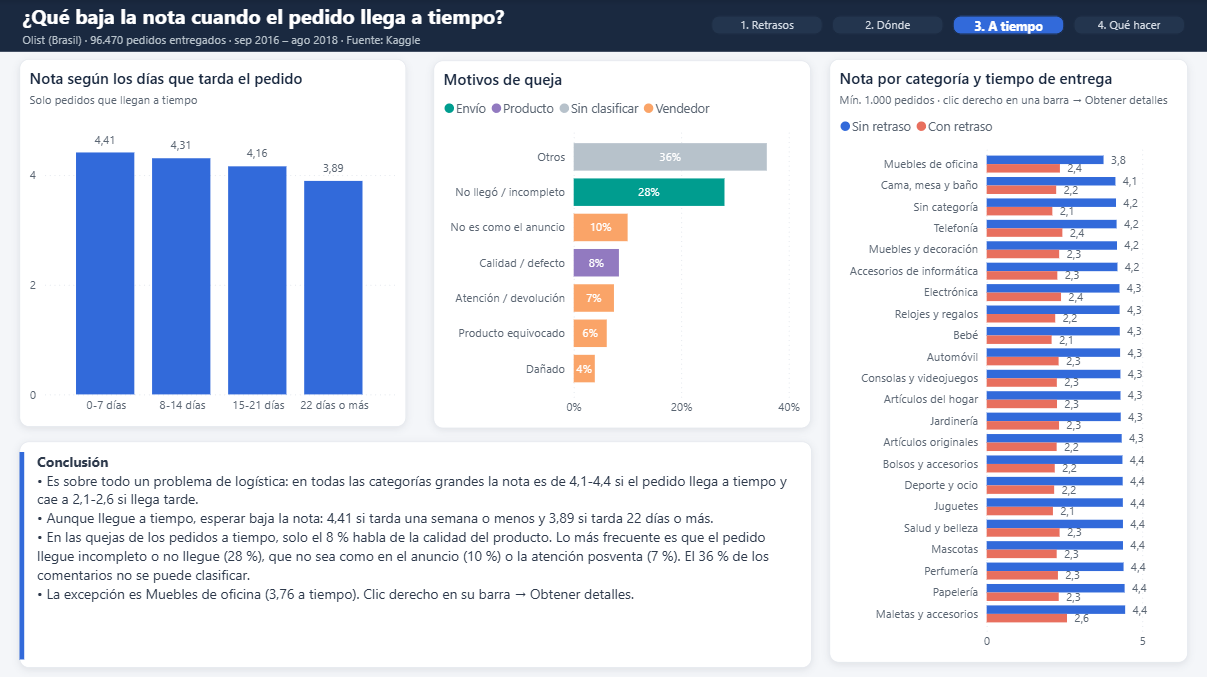

This screenshot's page, from the dashboard's own definition file:
{"tool":"powerbi","page":{"name":"3. A tiempo","canvas":[1280,720],"ordinal":2},"visuals":[{"type":"shape","box":[0,0,1280,56],"z":0},{"type":"clusteredColumnChart","title":"Nota según los días que tarda el pedido","fields":{"Category":["pedidos_limpios.tramo_dias_entrega"],"Y":["pedidos_limpios.Nota a tiempo"]},"box":[20,64,410,390],"z":1000},{"type":"textbox","box":[20,470,840,240],"z":3000},{"type":"shape","box":[20,480,5,220],"z":3500},{"type":"clusteredBarChart","title":"Nota por categoría y tiempo de entrega","fields":{"Category":["productos.category"],"Y":["pedidos_limpios.Nota a tiempo","pedidos_limpios.Nota con retraso"]},"box":[880,64,380,640],"z":4000},{"type":"barChart","title":"Motivos de queja","fields":{"Category":["pedidos_limpios.motivo_queja"],"Series":["pedidos_limpios.responsable_queja"],"Y":["pedidos_limpios.% de las quejas"]},"box":[459.9,64.8,400,390],"z":4000},{"type":"textbox","box":[24,3,700,32],"z":90000},{"type":"pageNavigator","box":[745,10,525,36],"z":90000},{"type":"textbox","box":[24,33,700,20],"z":90000}]}

Visuals, with their boxes in screenshot pixels (x1, y1, x2, y2), scaled from the page's 1280x720 canvas onto the 1207x677 screenshot:
shape: <bbox>0, 0, 1206, 53</bbox>
"Nota según los días que tarda el pedido" clusteredColumnChart: <bbox>19, 60, 405, 427</bbox>
textbox: <bbox>19, 442, 811, 668</bbox>
shape: <bbox>19, 451, 24, 658</bbox>
"Nota por categoría y tiempo de entrega" clusteredBarChart: <bbox>830, 60, 1188, 662</bbox>
"Motivos de queja" barChart: <bbox>434, 61, 811, 428</bbox>
textbox: <bbox>23, 3, 683, 33</bbox>
pageNavigator: <bbox>703, 9, 1198, 43</bbox>
textbox: <bbox>23, 31, 683, 50</bbox>
